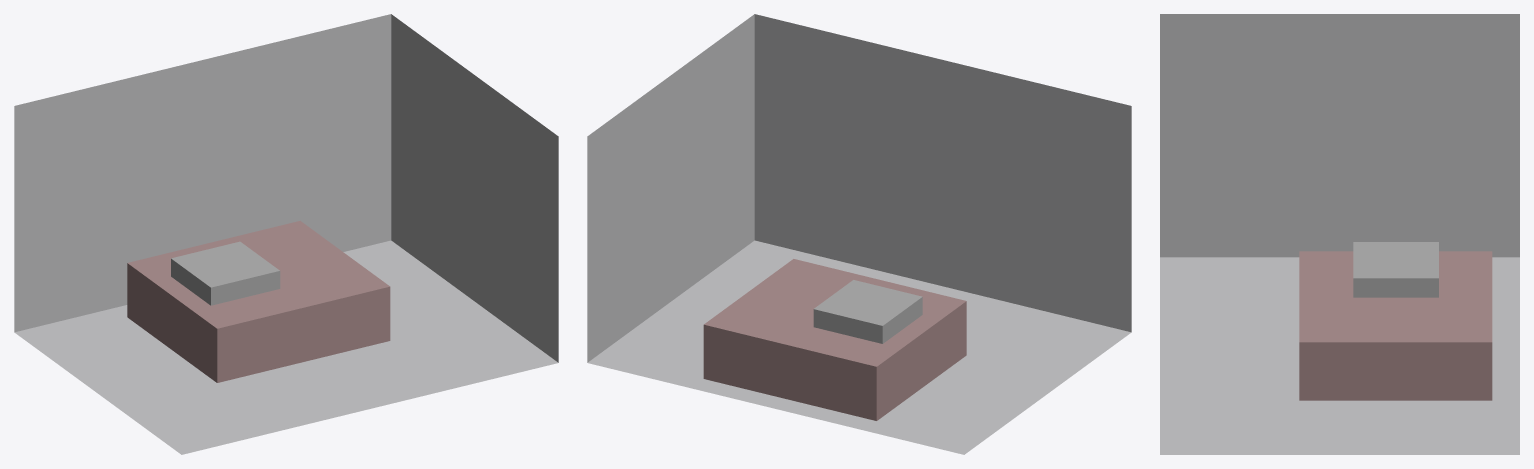
The model's file is optimised_layout.glb.
The picture shows the model from 3 angles, left to right: view 1: azimuth 30°, elevation 25°; view 2: azimuth 150°, elevation 25°; view 3: azimuth 270°, elevation 25°; orthographic projection. The views are drawn at different scales.
Visible parts, largest first — view 1: room, bed, studyTable; view 2: room, bed, studyTable; view 3: room, bed, studyTable.
Boxes of the visible parts, left/top/right/bottom form: room: left=14, top=14, right=558, bottom=454; bed: left=127, top=220, right=390, bottom=382; studyTable: left=171, top=241, right=280, bottom=305; room: left=587, top=14, right=1131, bottom=454; bed: left=703, top=259, right=966, bottom=420; studyTable: left=813, top=280, right=922, bottom=343; room: left=1160, top=14, right=1519, bottom=454; bed: left=1299, top=251, right=1492, bottom=400; studyTable: left=1353, top=242, right=1438, bottom=297.
Size of the model in its own units: 4.36 by 2.5 by 3.35.
